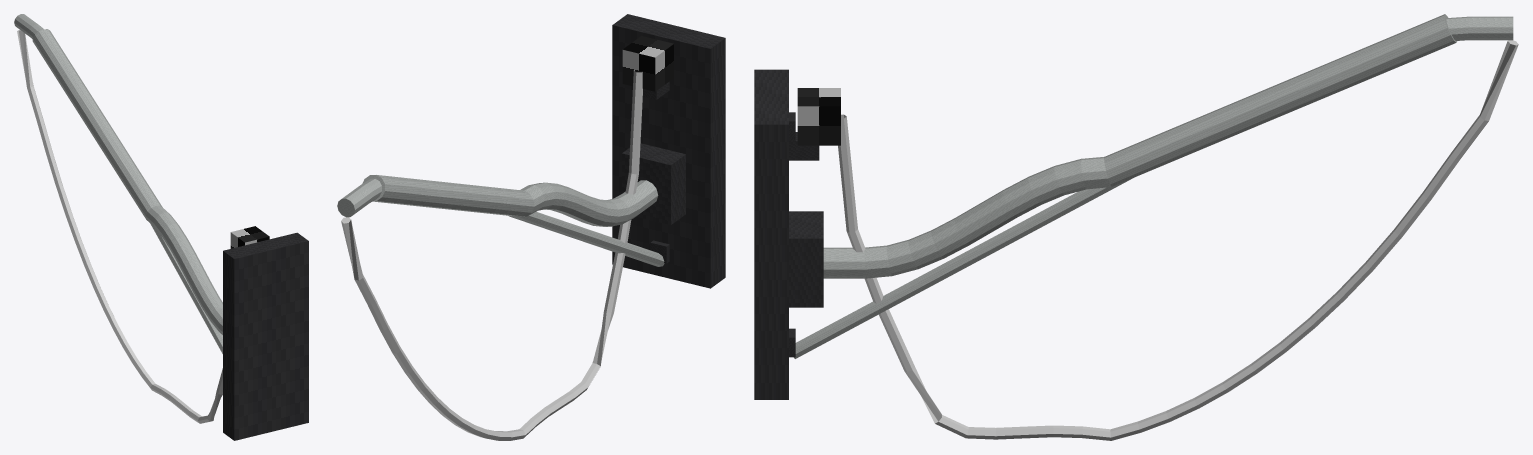
Rendered from arm_2_straight_wired.obj.
3 views of the same model, side by side, from view 1: azimuth 30°, elevation 25°; view 2: azimuth 150°, elevation 25°; view 3: azimuth 270°, elevation 25° (orthographic). The views are drawn at different scales.
Visible parts, largest first — view 1: pole_light_mount_2_straight_wired; view 2: pole_light_mount_2_straight_wired; view 3: pole_light_mount_2_straight_wired.
Boxes of the visible parts, x1,y1,x2,y2 form: pole_light_mount_2_straight_wired: [14, 14, 308, 440]; pole_light_mount_2_straight_wired: [337, 14, 725, 440]; pole_light_mount_2_straight_wired: [754, 14, 1518, 440].
Bounding box in the file's own units: 0.375 × 1.35 × 2.2.
